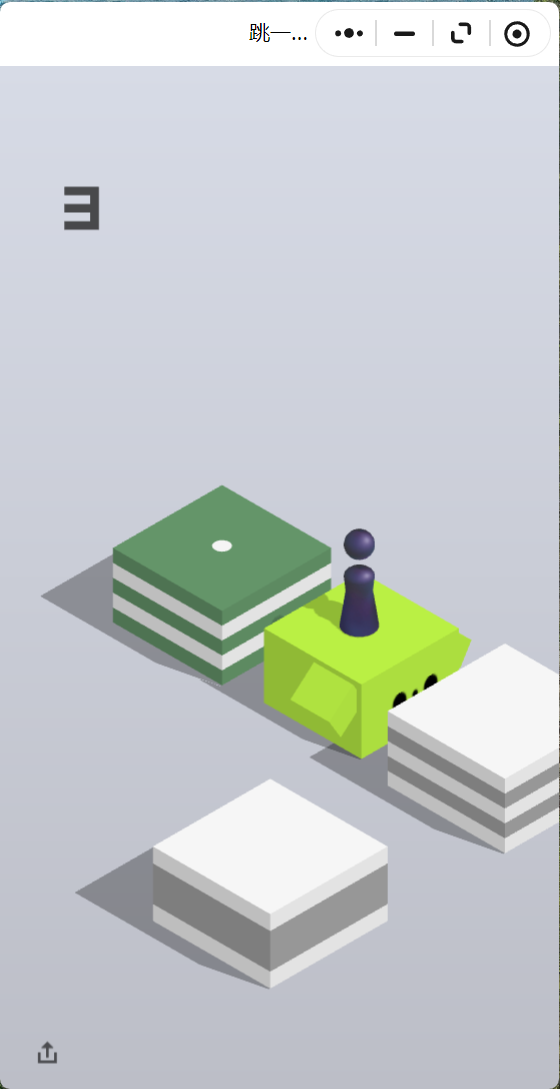piece: (343, 529, 374, 636)
target: (112, 485, 332, 609)
